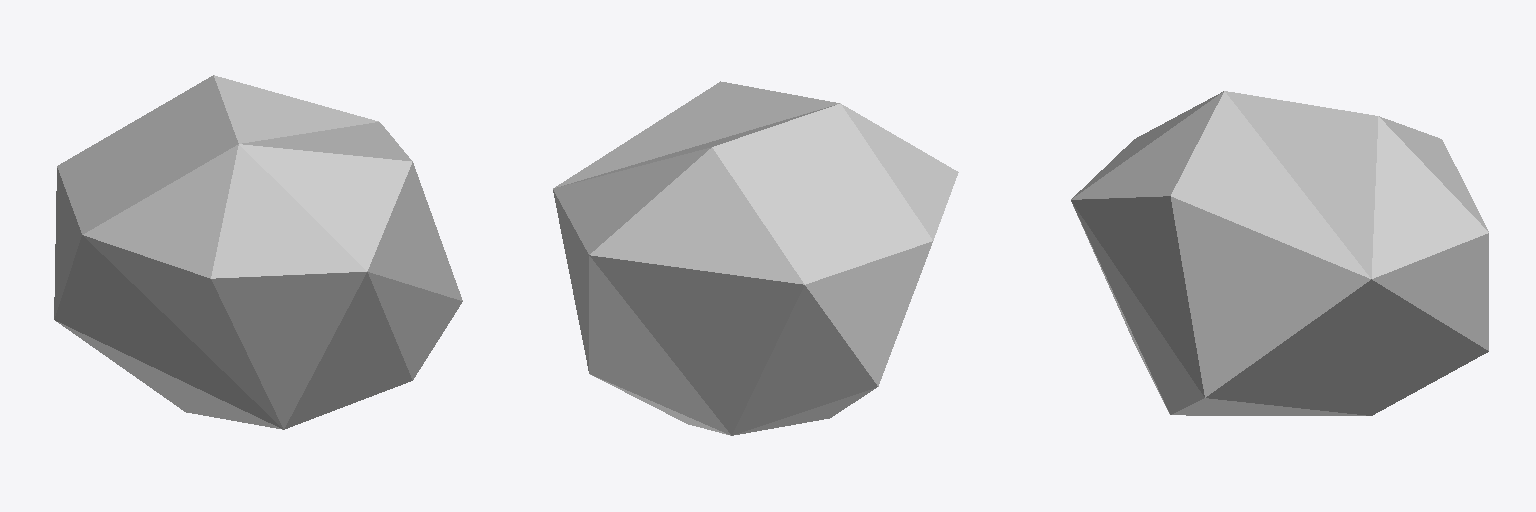
Rendered from piedra.obj.
3 views of the same model, side by side, from view 1: azimuth 30°, elevation 25°; view 2: azimuth 150°, elevation 25°; view 3: azimuth 270°, elevation 25° (orthographic).
Parts seen in each view (by area): view 1: piedra_para_texturizar:Sphere002; view 2: piedra_para_texturizar:Sphere002; view 3: piedra_para_texturizar:Sphere002.
Part boxes in pixels (x1,y1,x2,y2): piedra_para_texturizar:Sphere002: (54, 75, 462, 429); piedra_para_texturizar:Sphere002: (553, 81, 958, 435); piedra_para_texturizar:Sphere002: (1071, 91, 1488, 415).
Bounding box in the file's own units: 0.5909 × 0.4769 × 0.632.